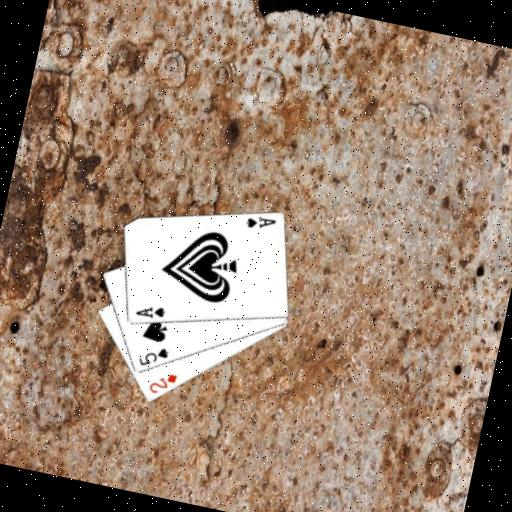2D: (144, 367, 179, 399)
5S: (134, 339, 171, 372)
AS: (241, 210, 278, 235), (132, 299, 167, 322)
